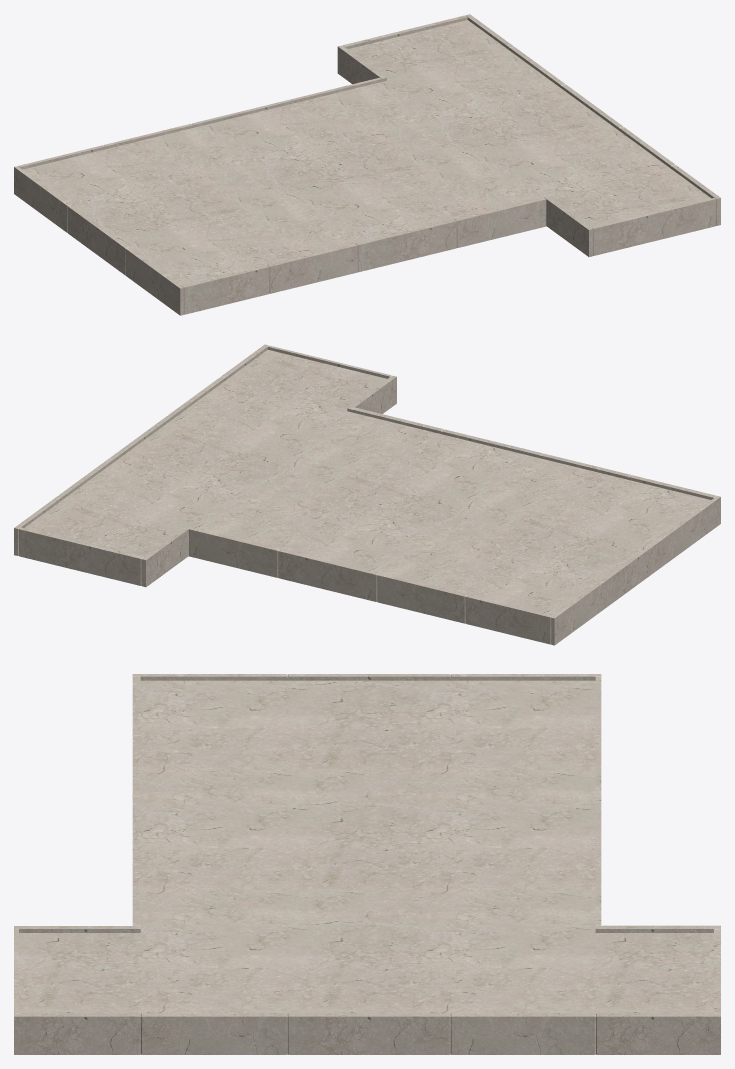
Rendered from pasted__marble_tile_105.fbx.
3 views of the same model, one above another, from view 1: azimuth 30°, elevation 25°; view 2: azimuth 150°, elevation 25°; view 3: azimuth 270°, elevation 25° (orthographic). The views are drawn at different scales.
Visible parts, largest first — view 1: pasted__marble_tile_105; view 2: pasted__marble_tile_105; view 3: pasted__marble_tile_105.
Part boxes in pixels (x1=…): pasted__marble_tile_105: x1=14, y1=14, x2=720, y2=315; pasted__marble_tile_105: x1=14, y1=344, x2=720, y2=645; pasted__marble_tile_105: x1=14, y1=674, x2=720, y2=1054.
Size of the model in its own units: 999 by 871 by 51.96.
